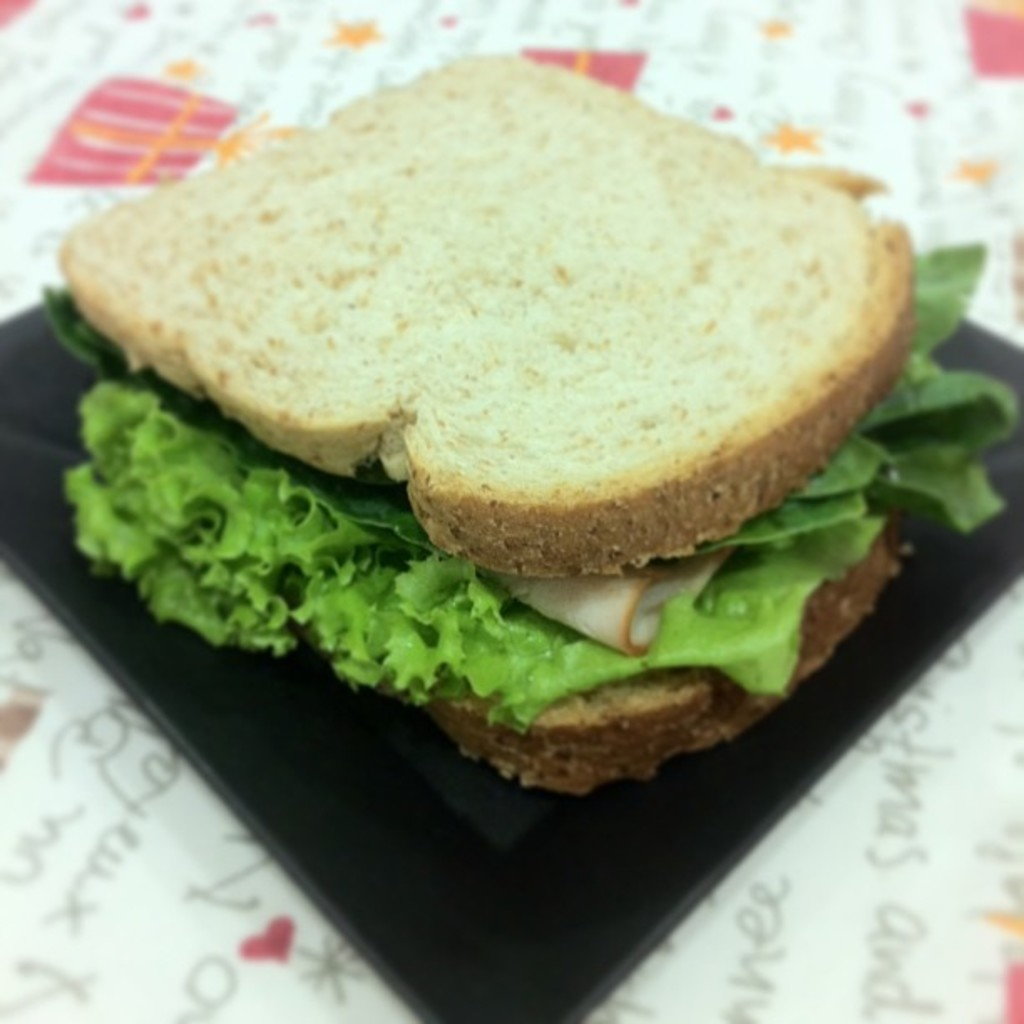sandwich: (45, 49, 1021, 793)
